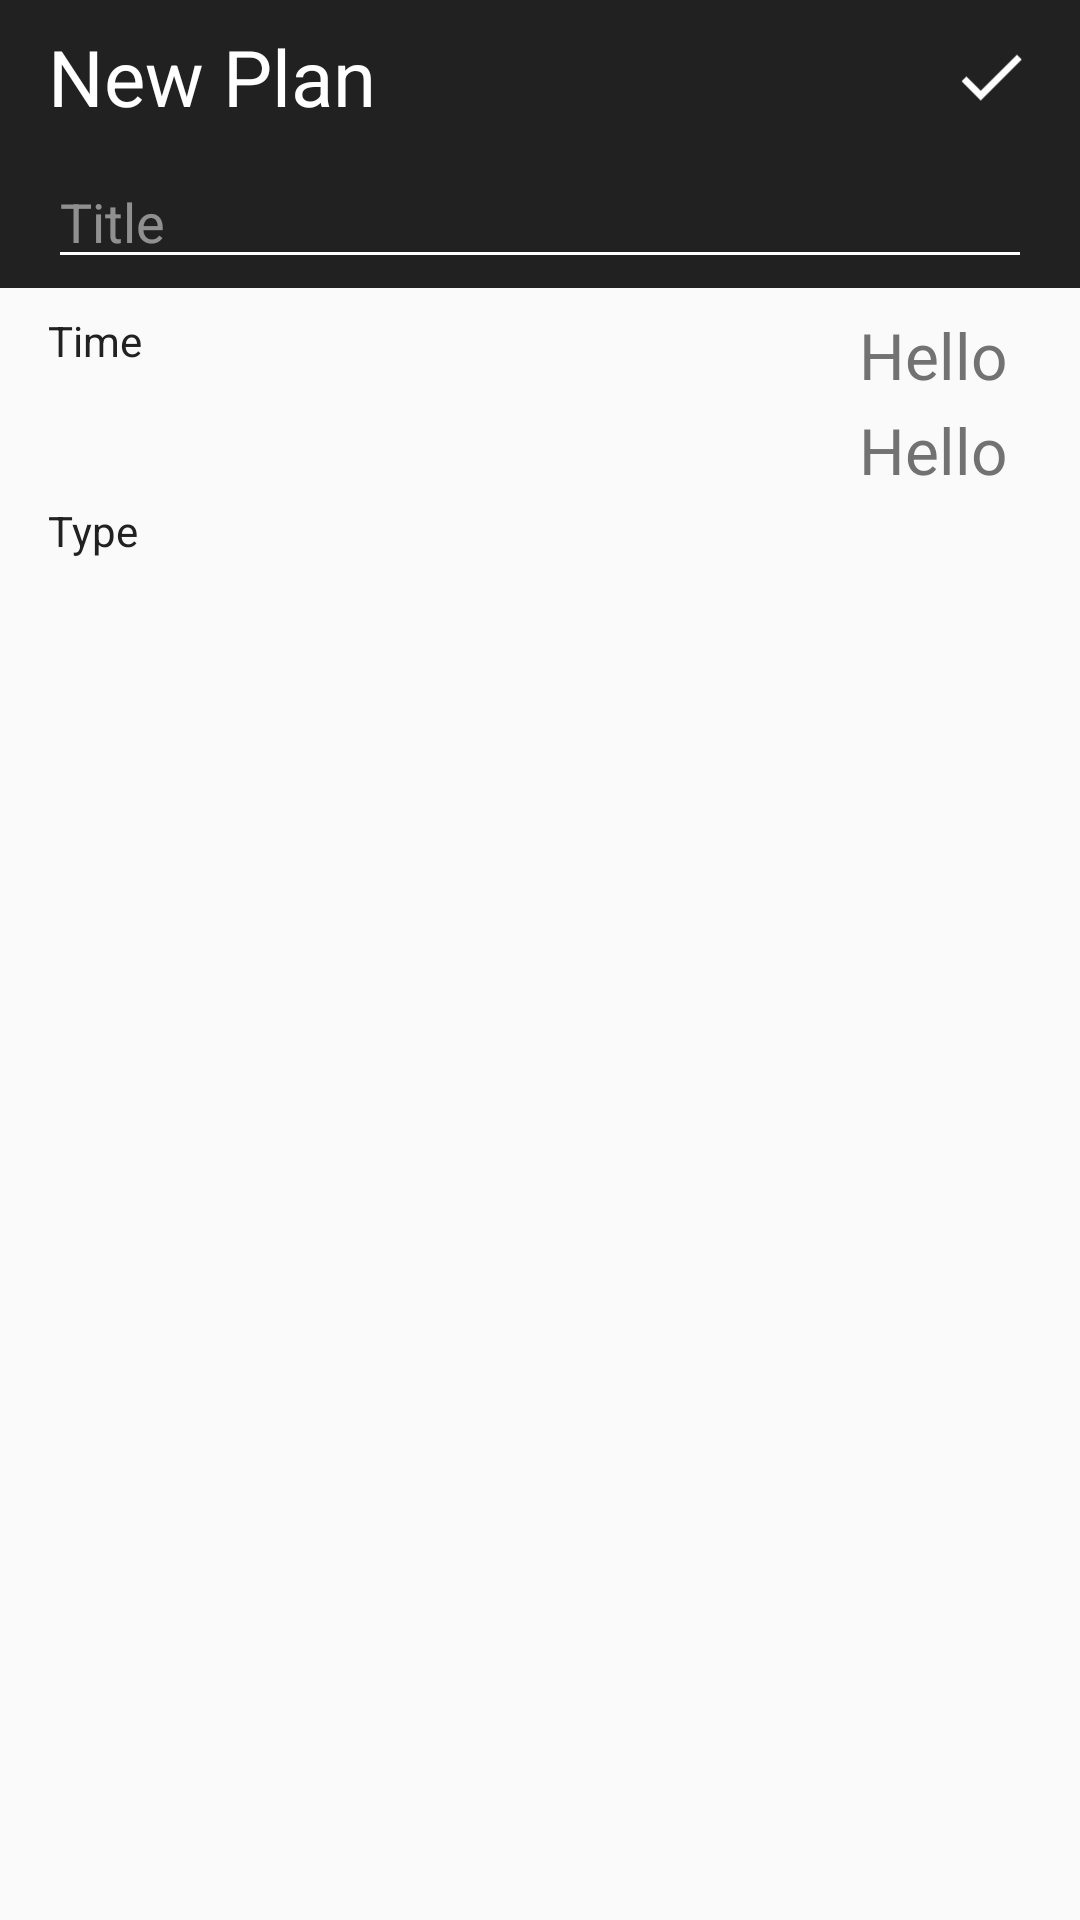

Locate icon controls on the screen. Image size 1080×1920, boxes as box=[x1, y1, x2, y2].
done: box=[962, 54, 1022, 101]
